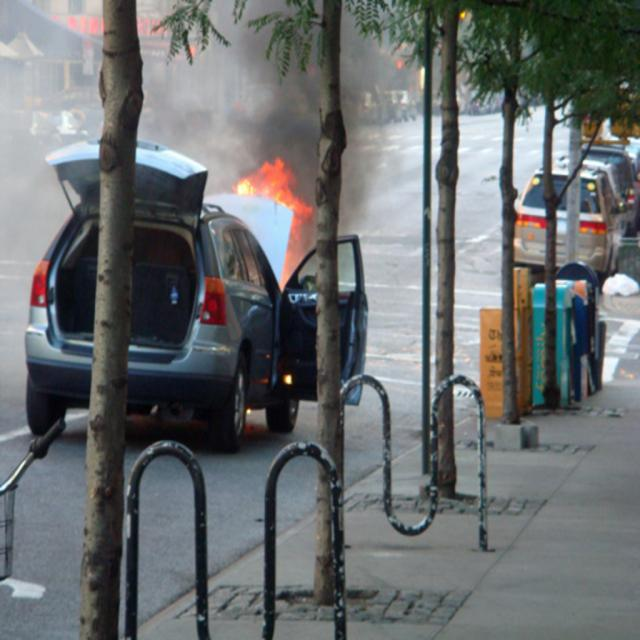car: (21, 153, 299, 462)
